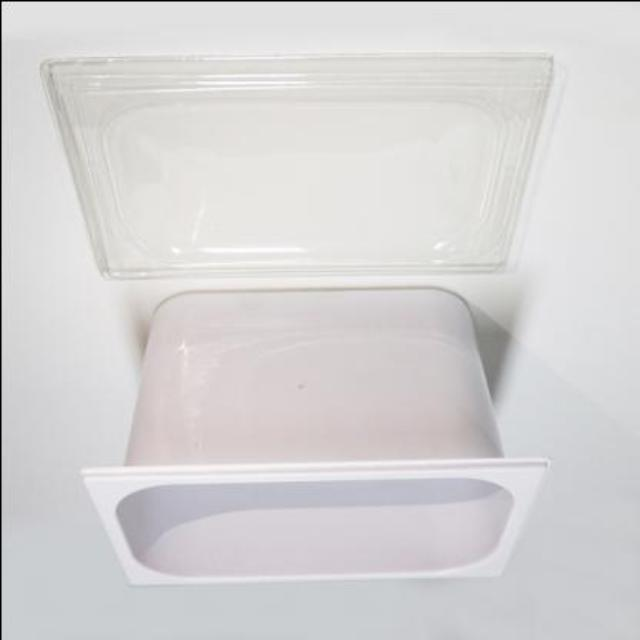plastic_box: (76, 293, 544, 577)
